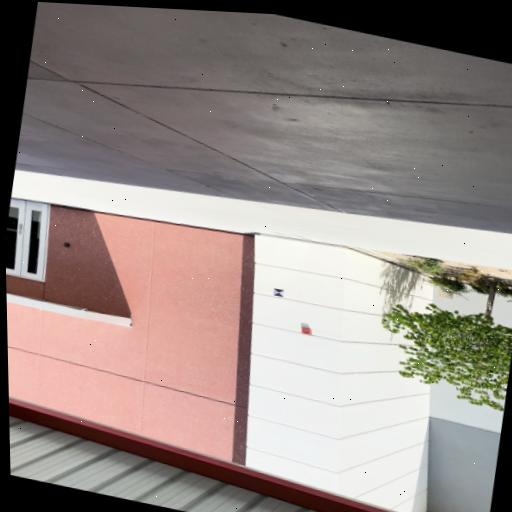target6: (271, 287, 284, 297)
